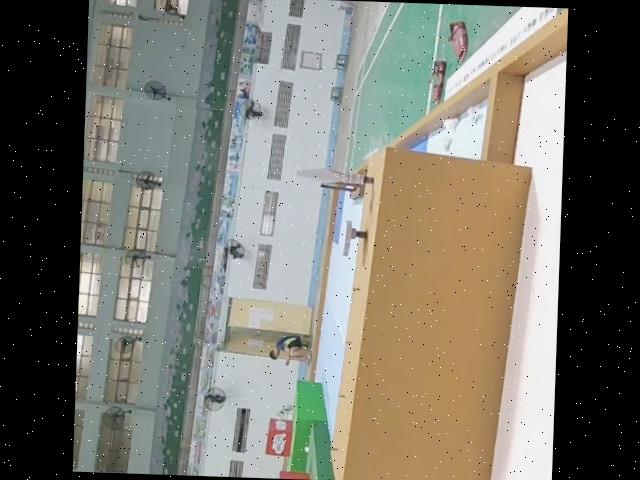Hand: (336, 219, 368, 257)
Sph: (292, 165, 371, 188)
